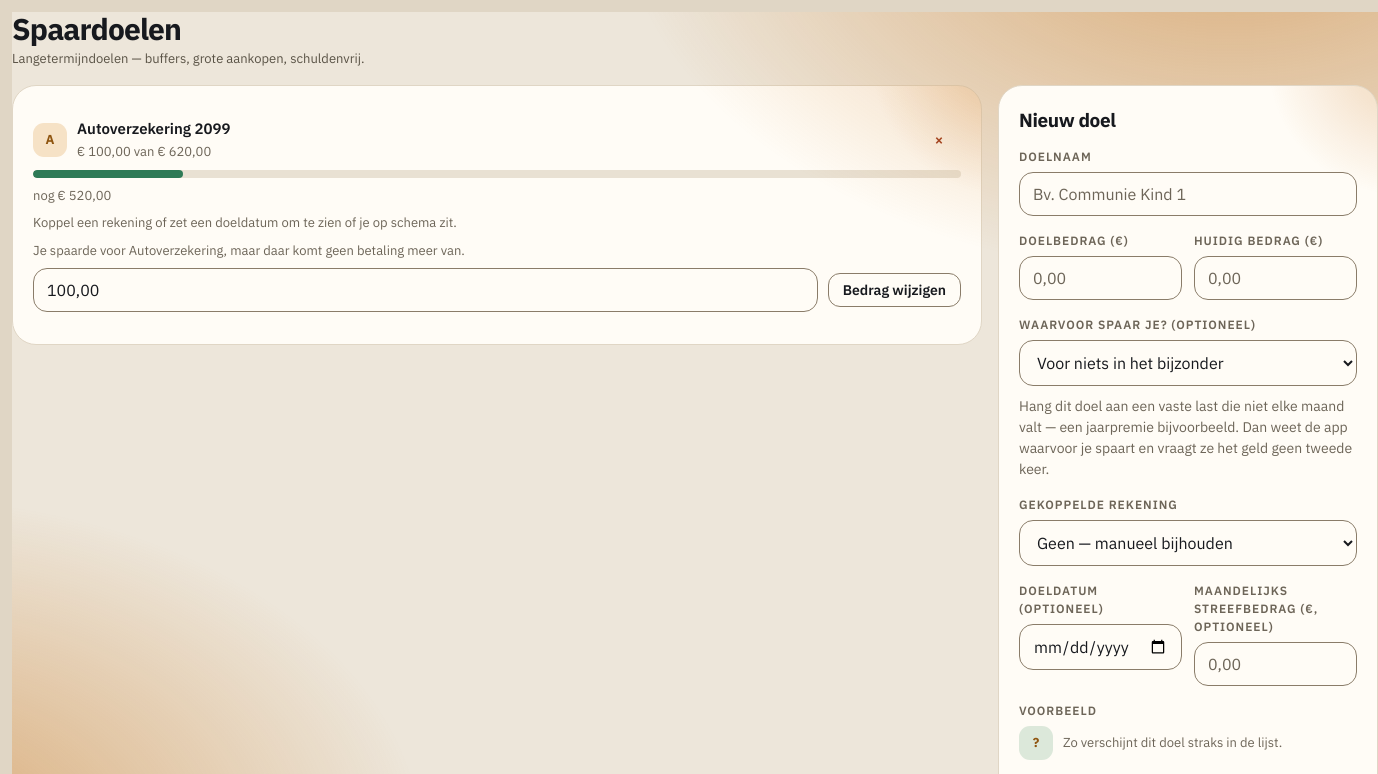
Test case: SpaardoelSectie — de koppeling bij het bewerken (ronde 74, doorlichting) › liegt niet wanneer de gekoppelde kost intussen opgezegd is
Click the button with aria-label "Bewerk doel Autoverzekering 2099" at (154, 128), box [77,118,907,162]
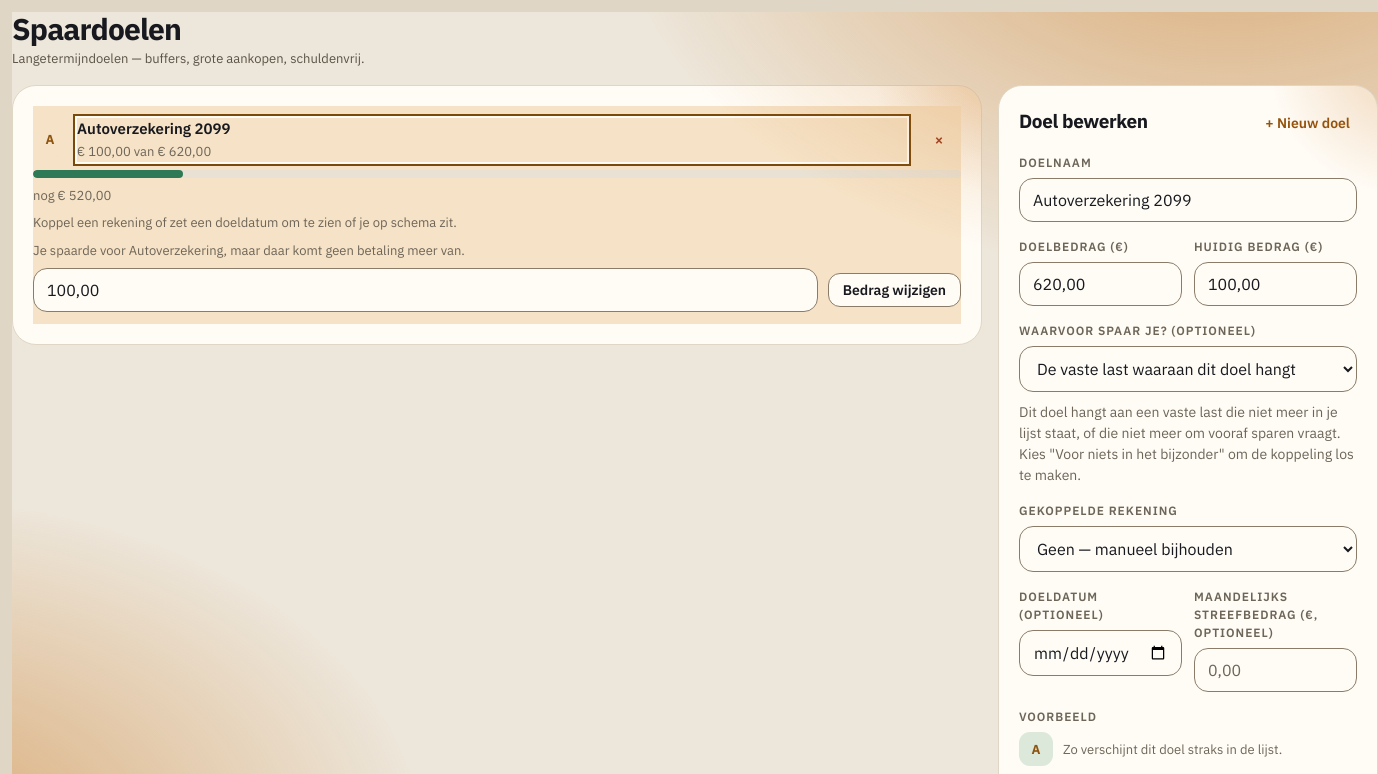
Check: the dropdown labelled "Waarvoor spaar je? (optioneel)" shows "De vaste last waaraan dit doel hangt", box [1019,346,1357,392]
Check: the text "om de koppeling los te maken" is shown, box [1019,403,1354,484]
